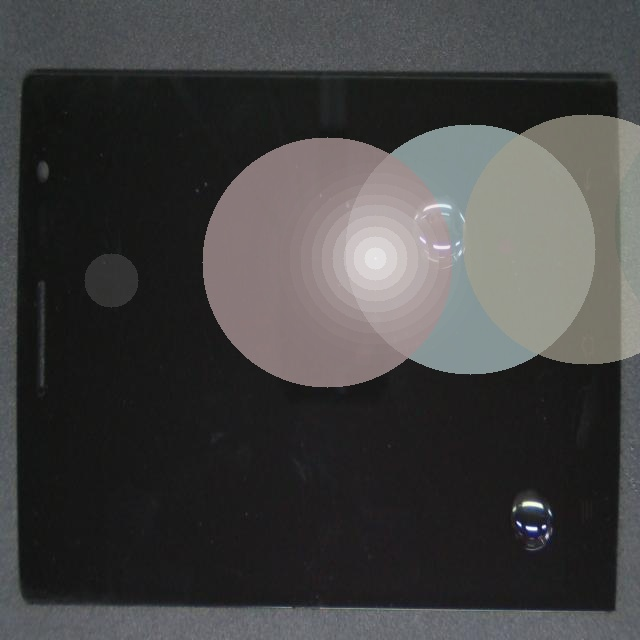oil: (273, 237, 640, 640), (250, 111, 640, 312)
